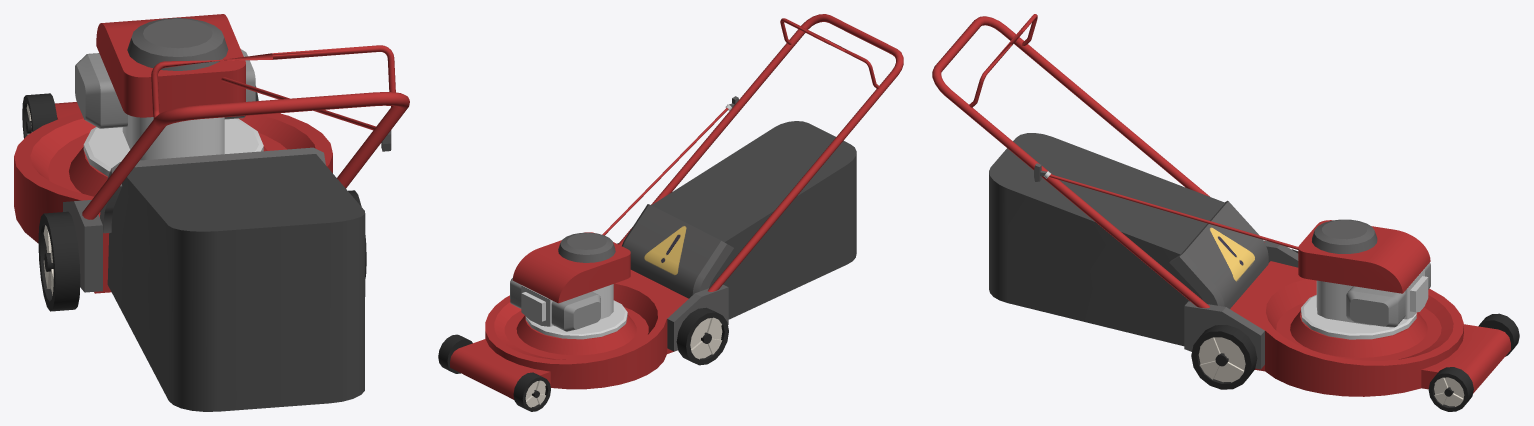
Rendered from LawmMower.fbx.
The picture shows the model from 3 angles, left to right: view 1: azimuth 30°, elevation 25°; view 2: azimuth 150°, elevation 25°; view 3: azimuth 270°, elevation 25°; orthographic projection. The views are drawn at different scales.
Visible parts, largest first — view 1: Cylinder.002; view 2: Cylinder.002; view 3: Cylinder.002.
Boxes of the visible parts, <box> form: Cylinder.002: <box>14,14,409,411</box>; Cylinder.002: <box>438,14,903,411</box>; Cylinder.002: <box>932,14,1519,411</box>.
Size of the model in its own units: 2244 by 1946 by 3873.
1 material, 1 textured.
